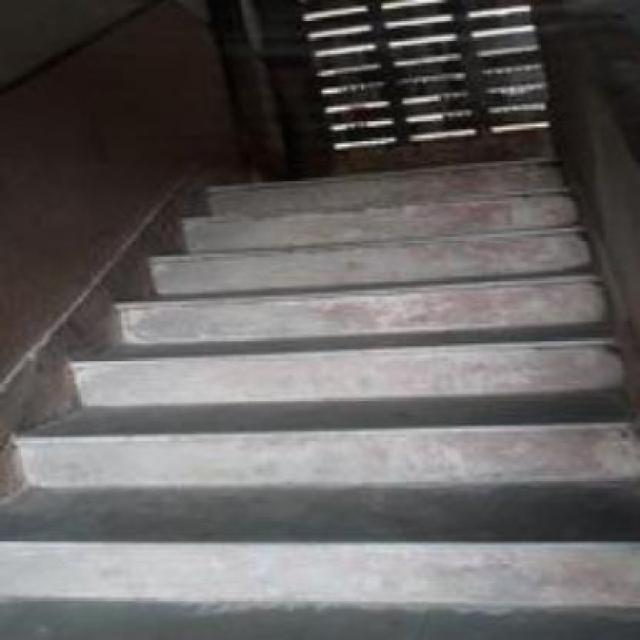stair: (7, 164, 640, 630)
